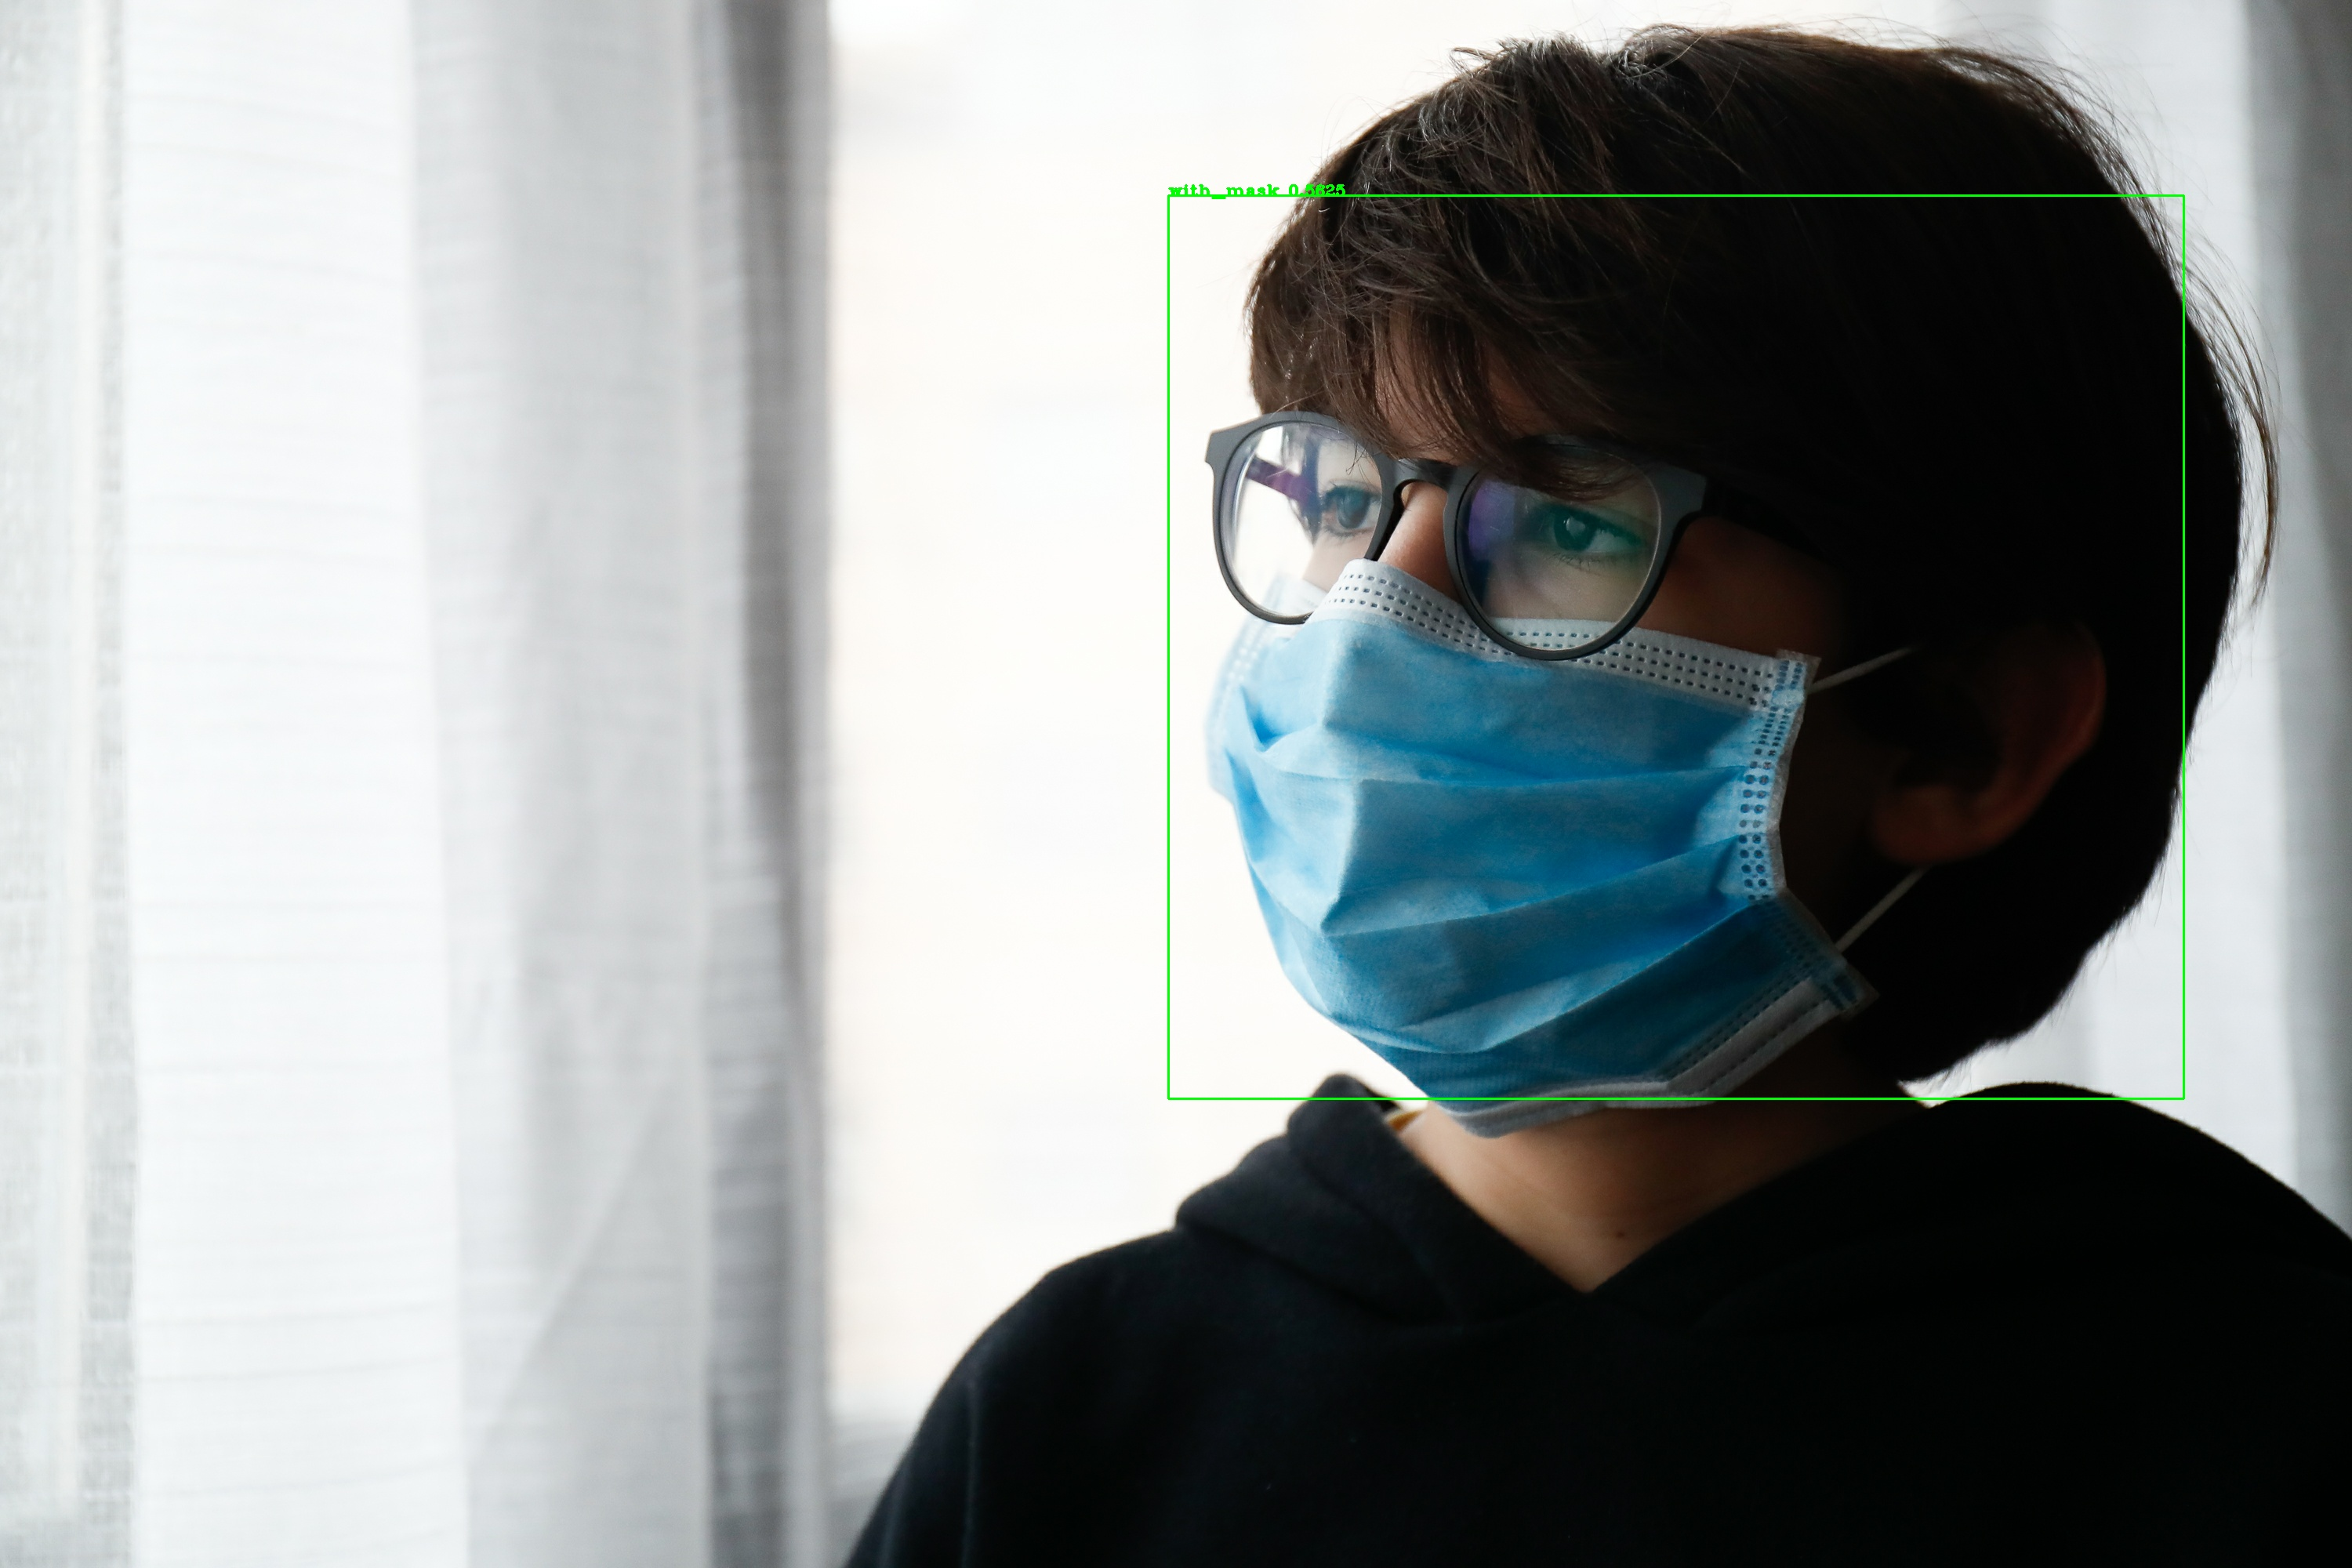with_mask: (1105, 77, 2274, 1253)
